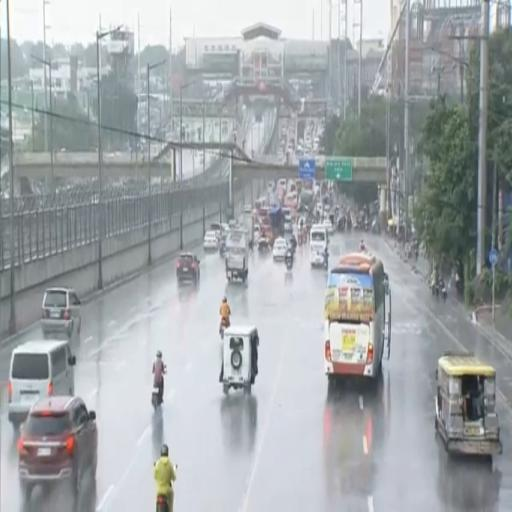bus: (325, 253, 391, 385), (255, 197, 268, 213)
car: (18, 395, 97, 509), (8, 341, 76, 433), (41, 286, 80, 339), (177, 252, 200, 283), (273, 237, 288, 261), (204, 231, 219, 251), (323, 219, 333, 234), (268, 182, 275, 191)
jeepney: (435, 352, 501, 455)
motorcycle: (152, 387, 163, 410), (156, 495, 170, 511), (220, 318, 229, 339), (438, 282, 446, 301), (285, 257, 293, 271), (431, 283, 438, 297), (324, 251, 329, 269)
truck: (225, 229, 249, 282), (242, 207, 254, 247)
